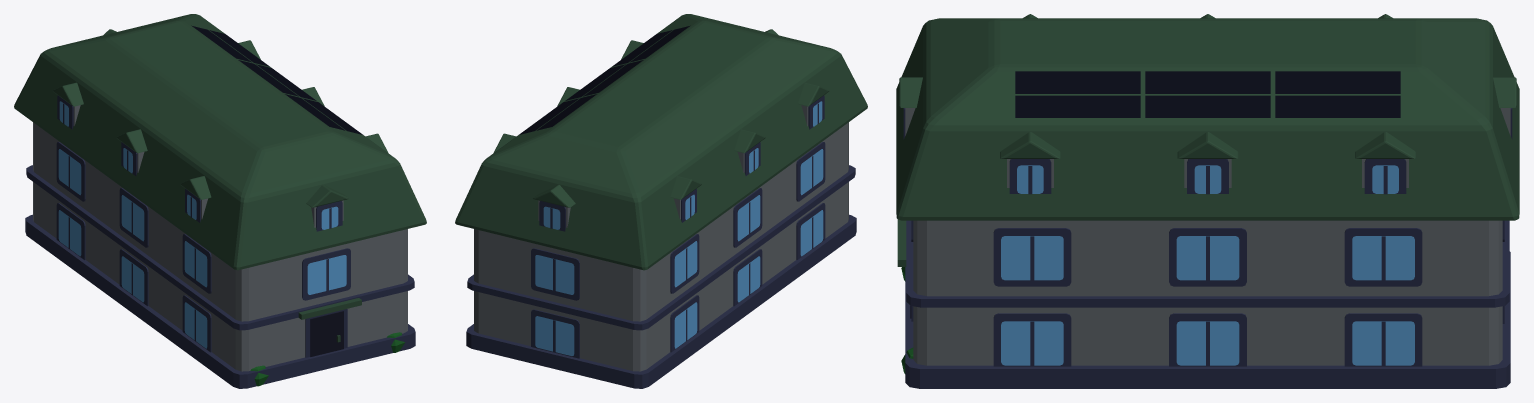
Rendered from house-1x2-2f-mansard-d-solar.glb.
3 views of the same model, side by side, from view 1: azimuth 30°, elevation 25°; view 2: azimuth 150°, elevation 25°; view 3: azimuth 270°, elevation 25° (orthographic). The views are drawn at different scales.
Visible parts, largest first — view 1: house-1x2-2f-mansard-d-solar; view 2: house-1x2-2f-mansard-d-solar; view 3: house-1x2-2f-mansard-d-solar.
Boxes of the visible parts, x1,y1,x2,y2 form: house-1x2-2f-mansard-d-solar: (14,14,426,388); house-1x2-2f-mansard-d-solar: (455,14,867,388); house-1x2-2f-mansard-d-solar: (896,14,1519,388).
Bounding box in the file's own units: 0.9876 × 1 × 1.99.
Materials: 1 (1 with a texture image).
